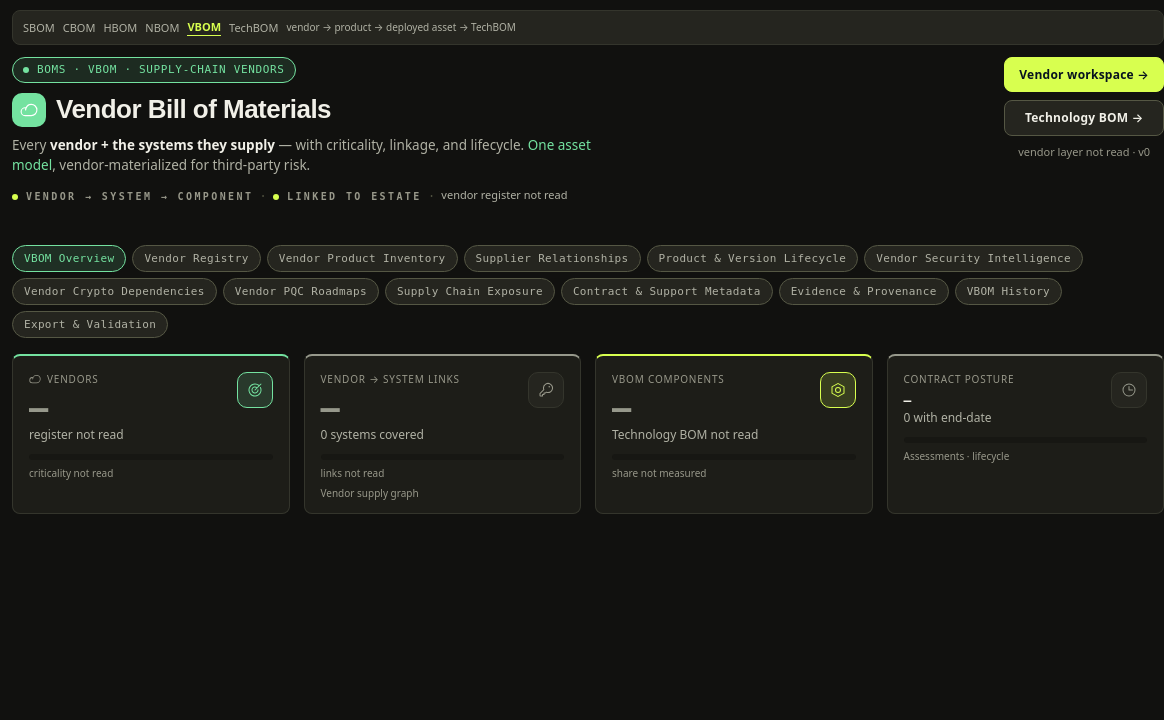
Test: VBOM workspace › draws the not-read state instead of an empty inventory when the read fails
Click the tab "VBOM History" at x=1008, y=291, box [955,278,1062,305]
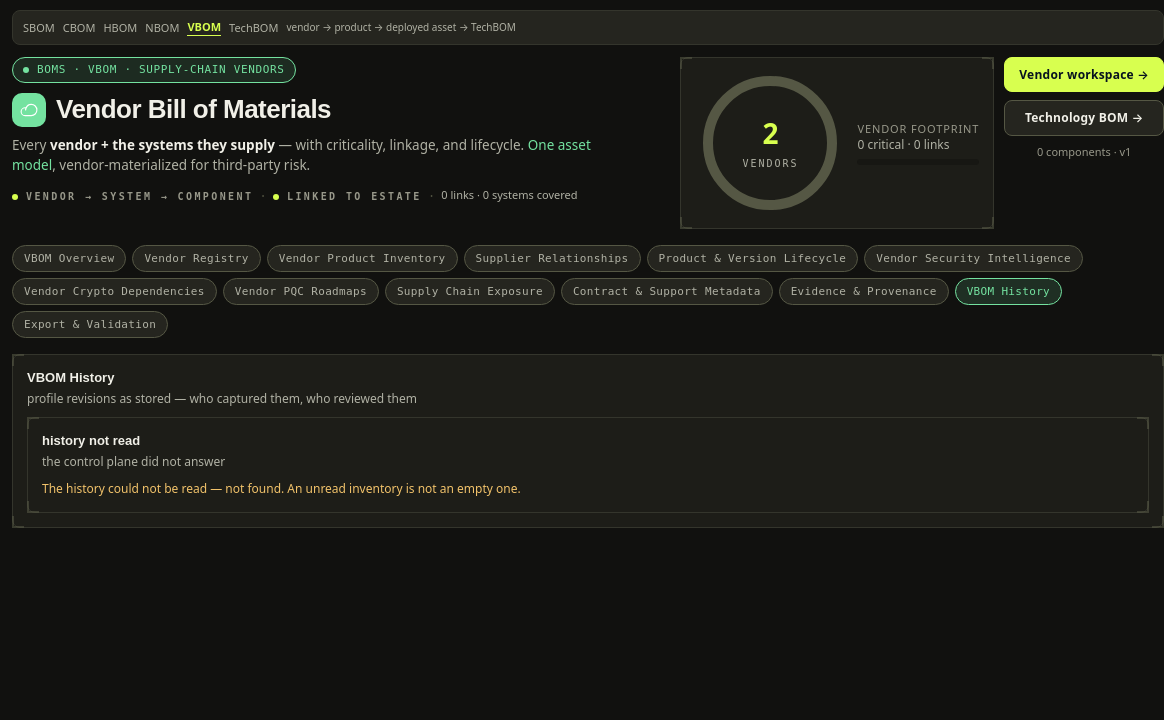
Expected: the heading "history not read" is shown, [42,433,140,448]
